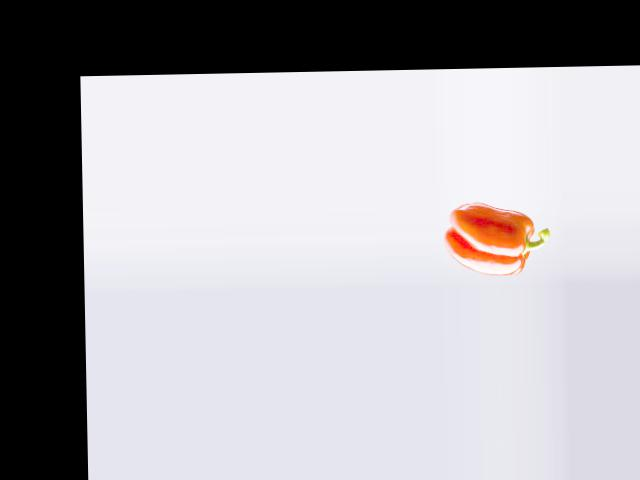bell_pepper: (446, 199, 551, 280)
